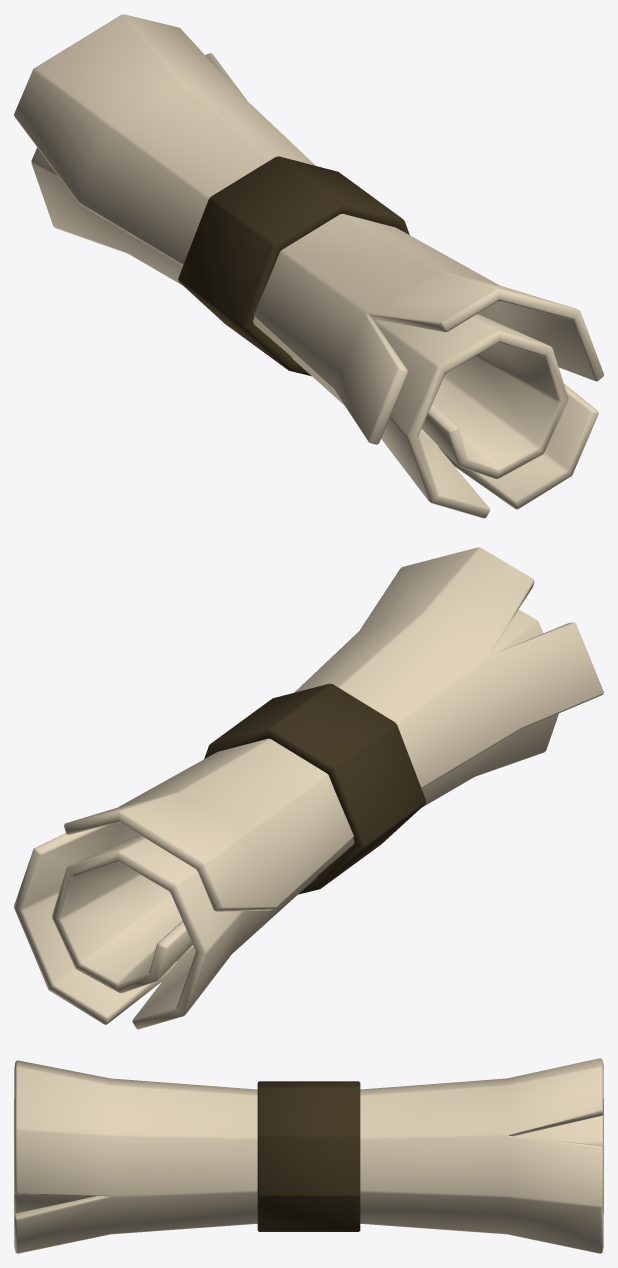
File: scroll.fbx
3 views of the same model, one above another, from view 1: azimuth 30°, elevation 25°; view 2: azimuth 150°, elevation 25°; view 3: azimuth 270°, elevation 25° (orthographic). The views are drawn at different scales.
Parts seen in each view (by area): view 1: scroll, scroll_cord; view 2: scroll, scroll_cord; view 3: scroll, scroll_cord.
Boxes of the visible parts, box(x1,y1,x2,y2) form: scroll: box(14, 14, 603, 518); scroll_cord: box(178, 156, 409, 376); scroll: box(14, 547, 603, 1029); scroll_cord: box(204, 683, 425, 894); scroll: box(14, 1058, 603, 1253); scroll_cord: box(257, 1081, 360, 1231).
Size of the model in its own units: 7.42 by 6.71 by 20.35.
